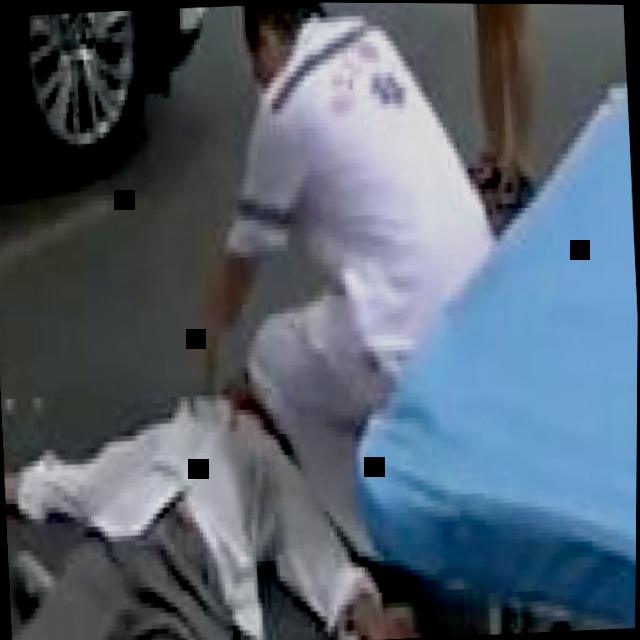Fall-Detected: (0, 256, 453, 640)
